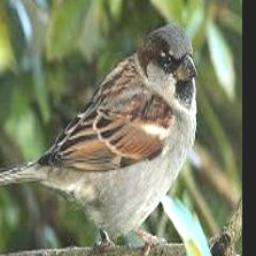Sparrow: (0, 23, 196, 256)
